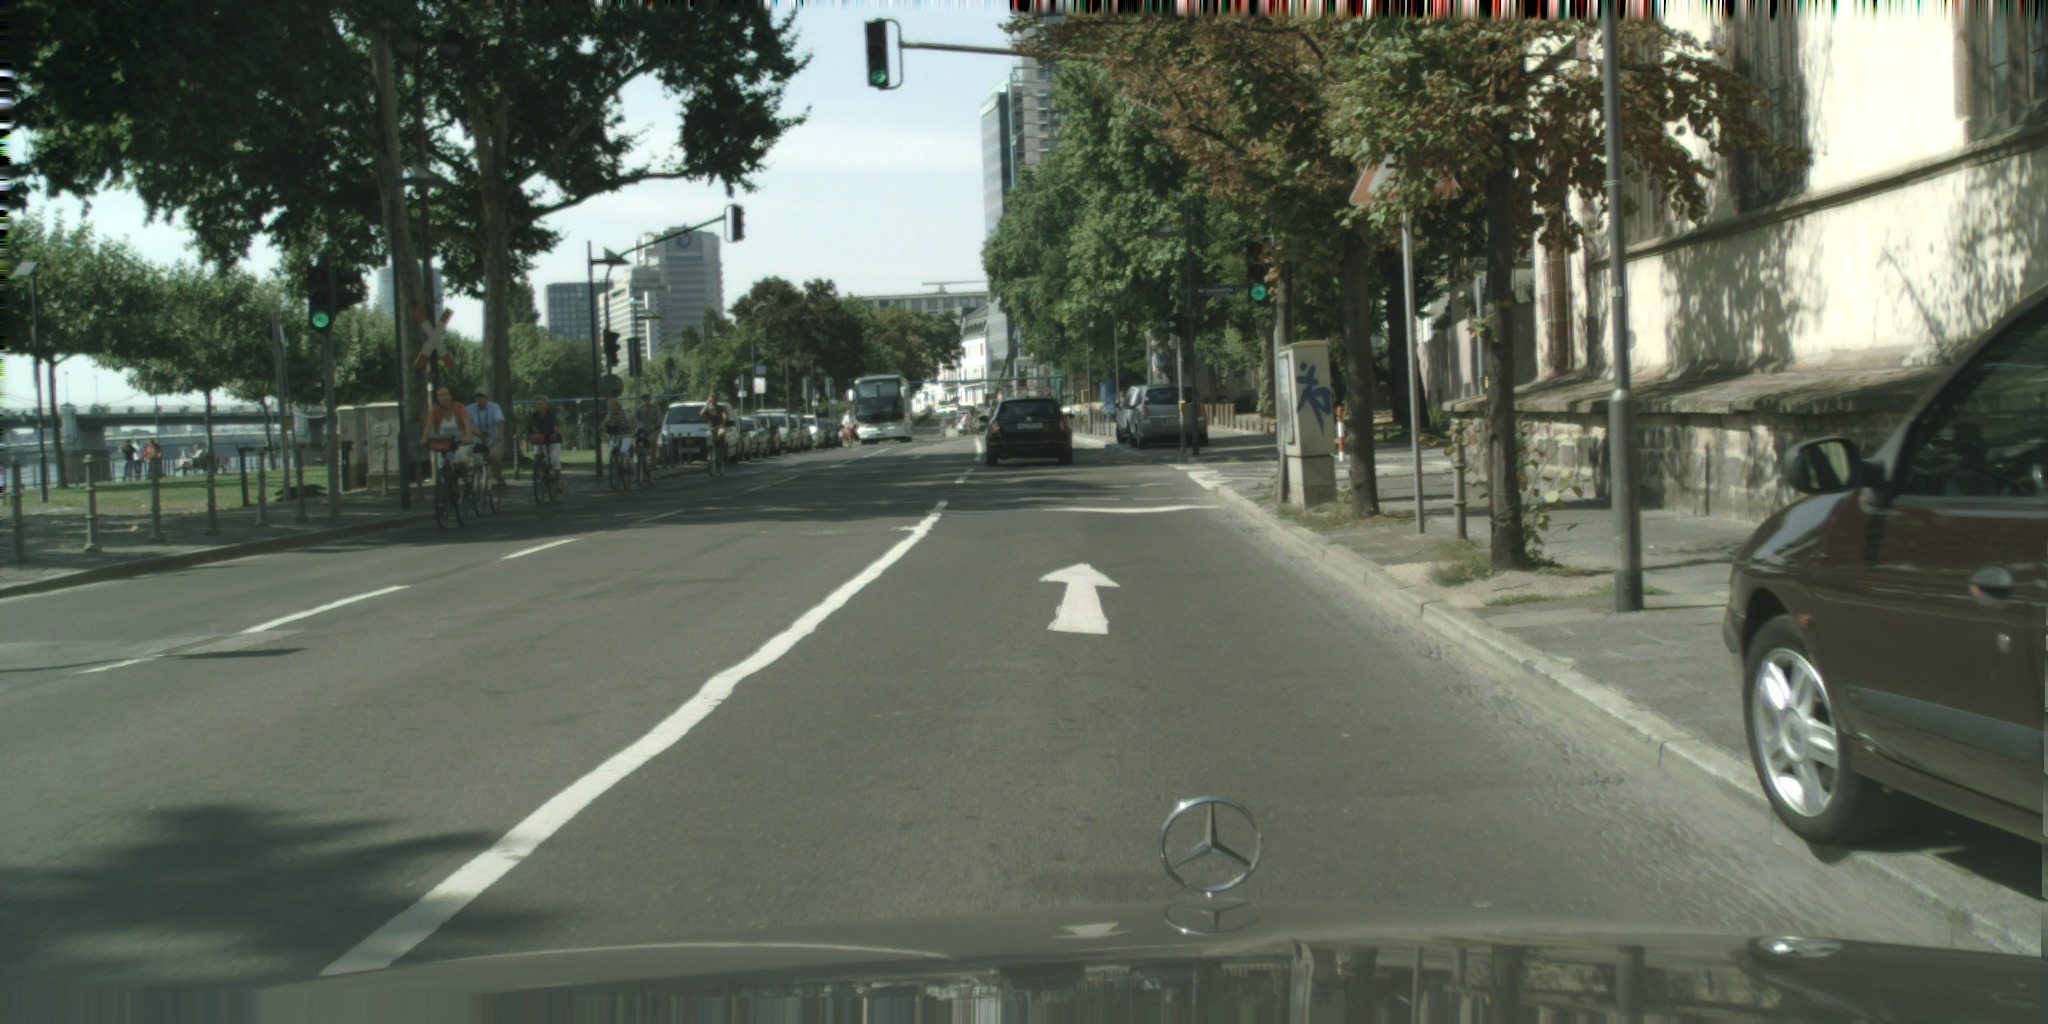bicycle: (425, 425, 473, 530), (465, 432, 502, 519), (526, 425, 559, 505), (629, 416, 660, 486), (607, 417, 632, 492), (699, 425, 727, 477)
bus: (849, 374, 916, 445)
car: (1723, 280, 2048, 852), (978, 394, 1073, 468), (1127, 383, 1209, 449), (1114, 384, 1157, 444)
person: (521, 394, 564, 493), (177, 444, 203, 471)
rider: (460, 387, 507, 492), (421, 384, 476, 473), (628, 392, 664, 469), (602, 400, 636, 475), (700, 394, 729, 467)
